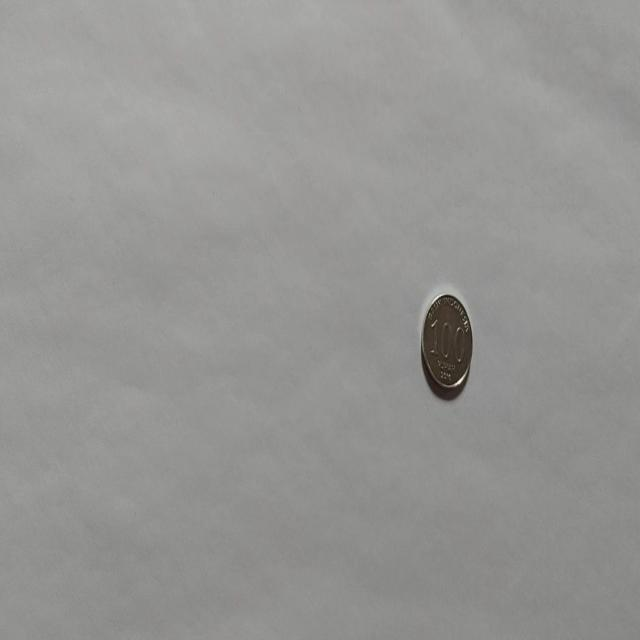seratus rupiah: (420, 291, 473, 393)
